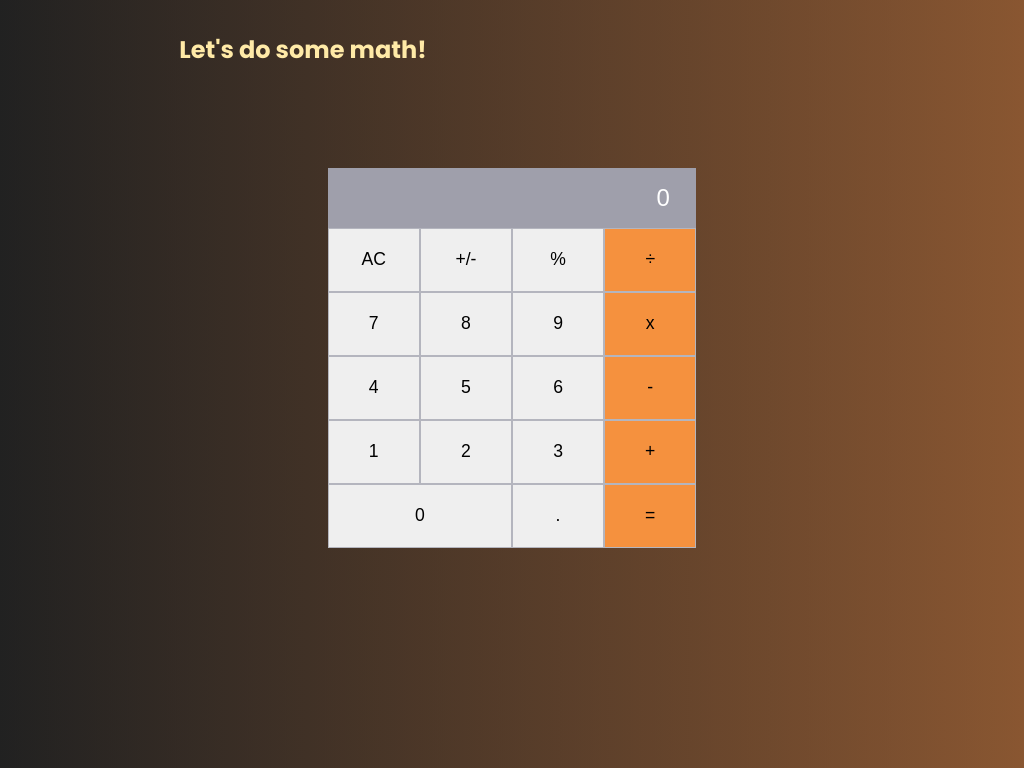
Tests for the calculator component and functions it calls › should render the button's text on the calculator screen when clicked
Click the button "7". click: (374,324)
box: [328,292,420,356]
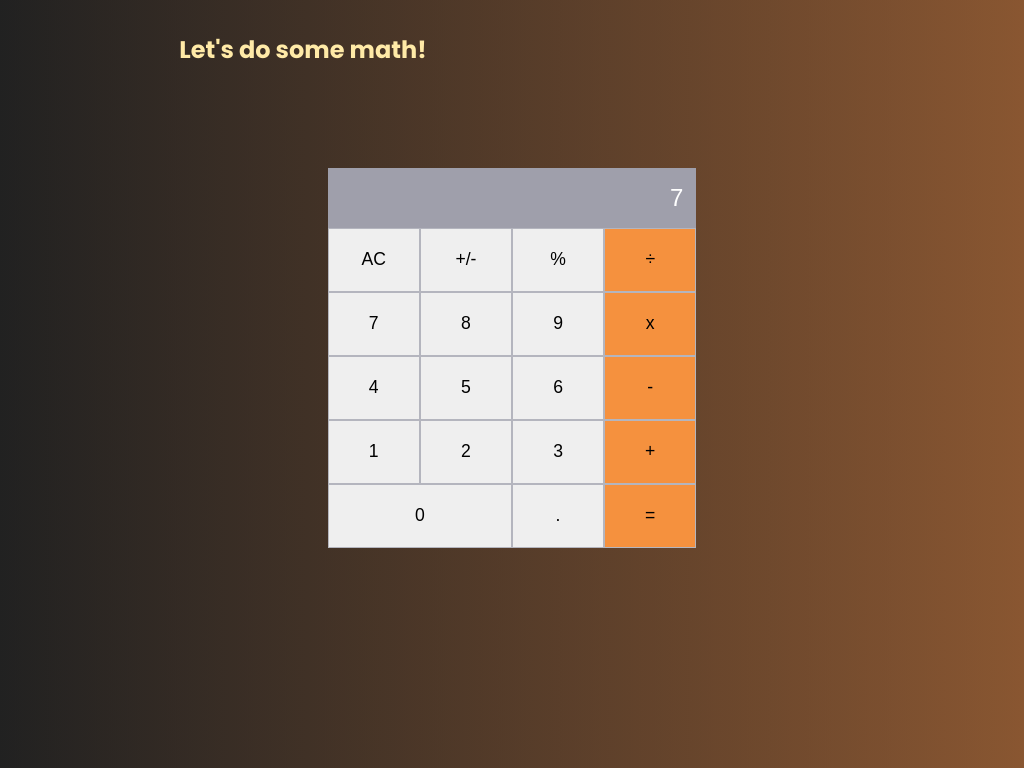
Expected: the field with test id "screen" holds "7", [328,168,696,228]
